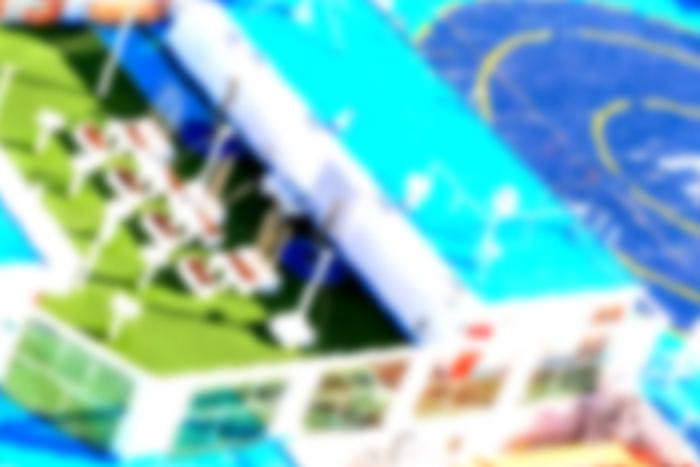Apron: (588, 86, 700, 241)
